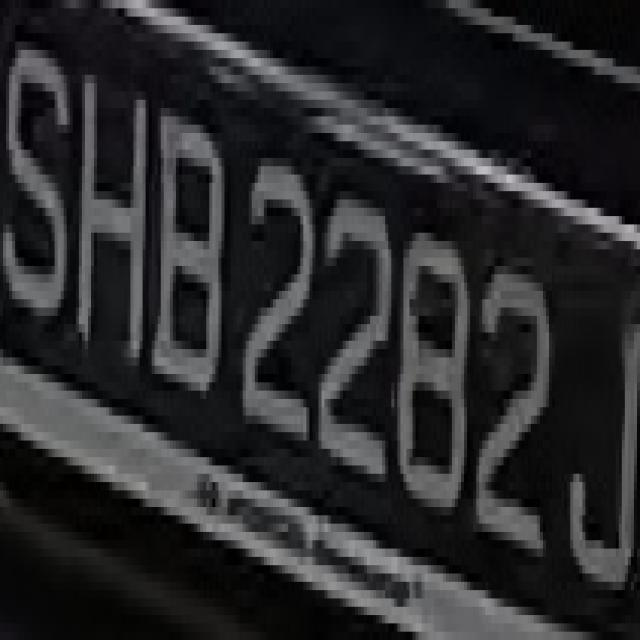2: (473, 233, 552, 582), (322, 150, 394, 515), (242, 133, 316, 474)
8: (394, 200, 470, 540)
B: (160, 83, 230, 416)
H: (72, 50, 152, 391)
J: (552, 282, 640, 598)
S: (3, 9, 70, 332)
